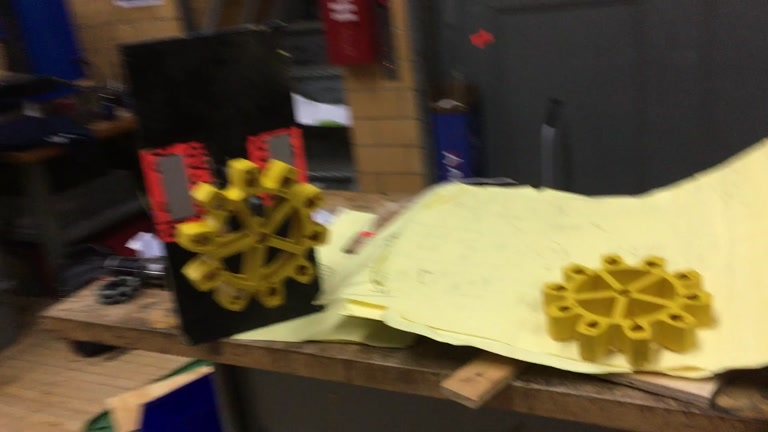gear: (175, 158, 329, 312), (542, 253, 714, 369)
